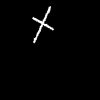single_crochet: (33, 7, 53, 42)
